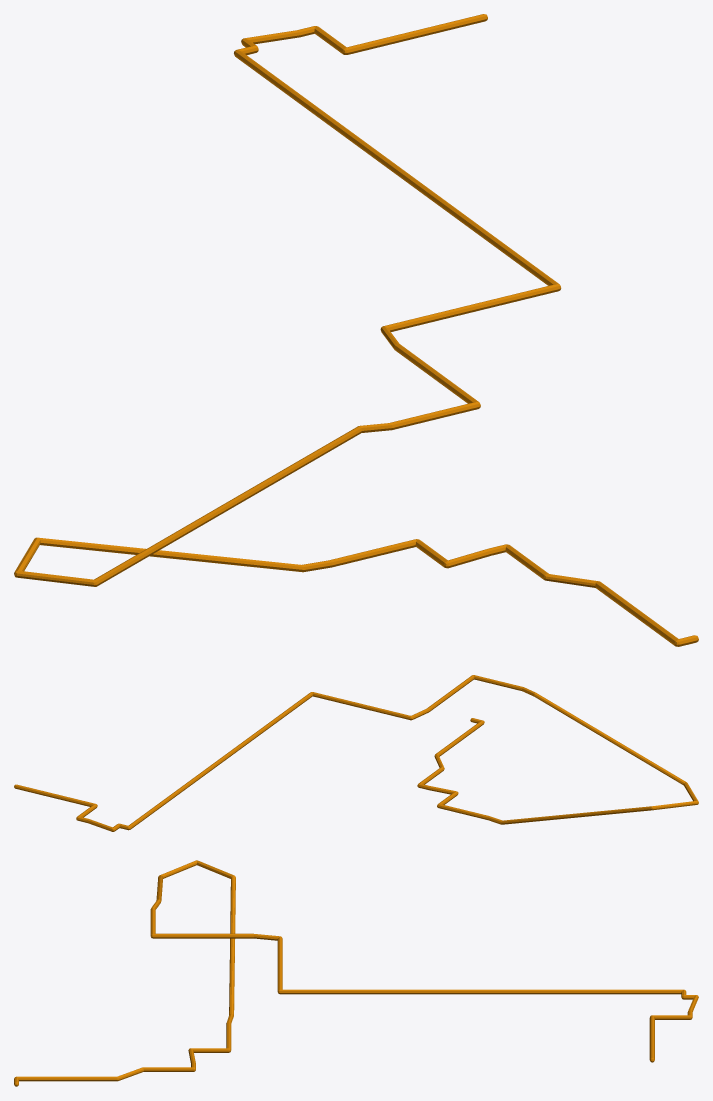
3 renders of one model, top to bottom at view 1: azimuth 30°, elevation 25°; view 2: azimuth 150°, elevation 25°; view 3: azimuth 270°, elevation 25°, orthographic. The views are drawn at different scales.
Size of the model in its own units: 2409 by 520 by 2715.
